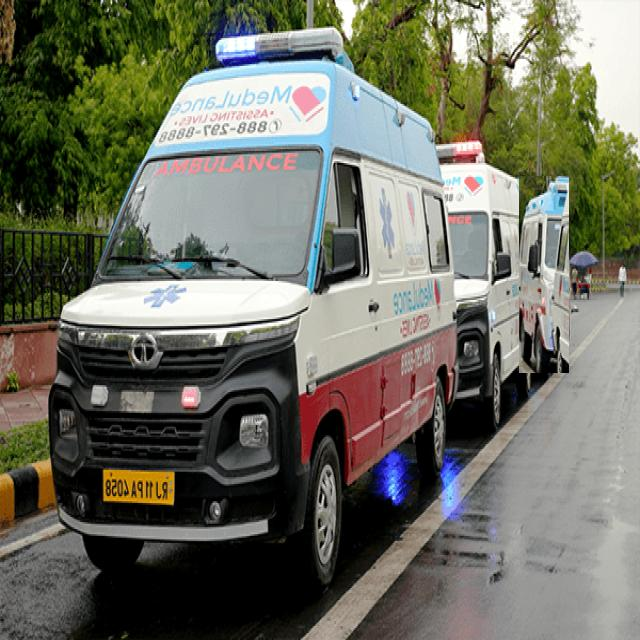emergency: (50, 30, 458, 588), (438, 142, 535, 424), (519, 177, 569, 373)
